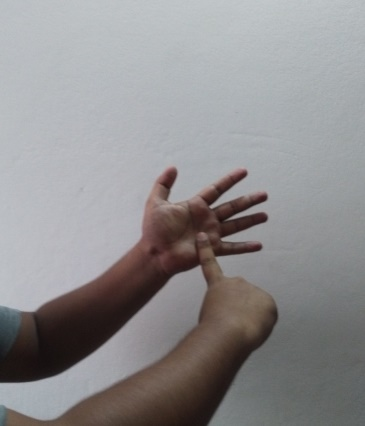oo: (138, 165, 280, 350)
